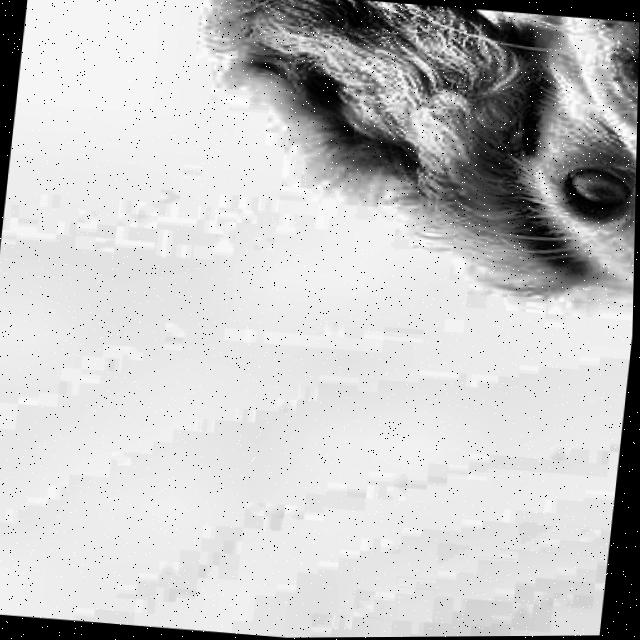dog: (173, 0, 640, 347)
